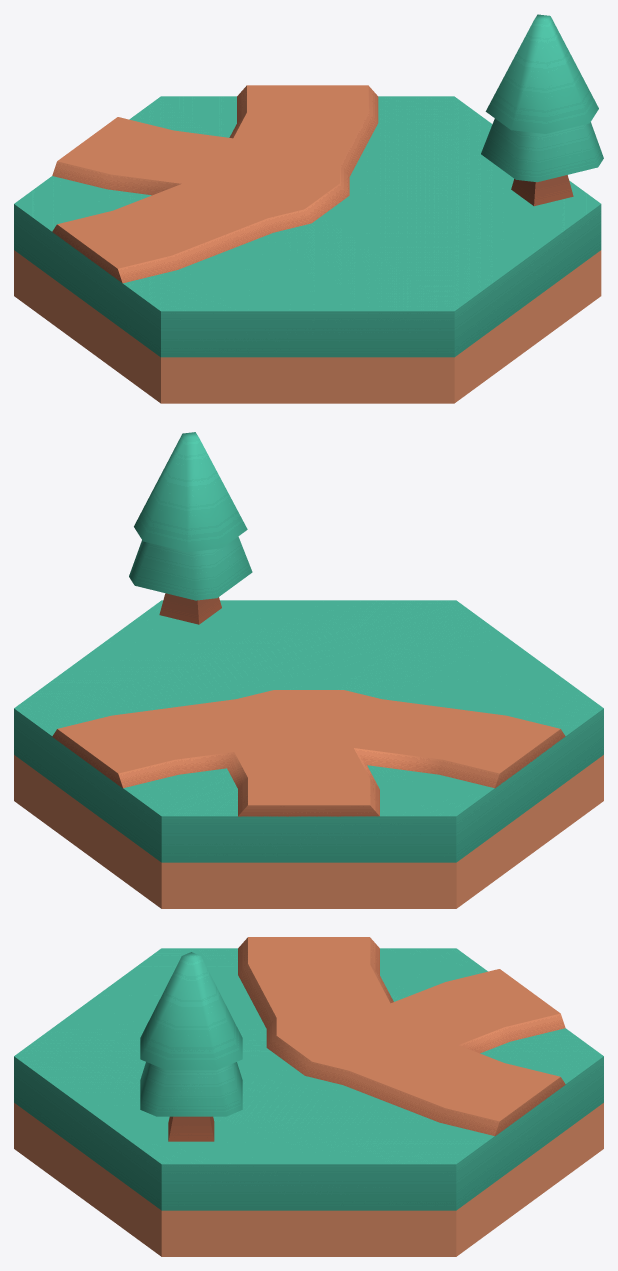
File: grass-path-intersectionA-tree.glb
The picture shows the model from 3 angles, top to bottom: view 1: azimuth 30°, elevation 25°; view 2: azimuth 150°, elevation 25°; view 3: azimuth 270°, elevation 25°; orthographic projection.
Visible parts, largest first — view 1: grass, path-intersectionA, unit-tree; view 2: grass, path-intersectionA, unit-tree; view 3: grass, path-intersectionA, unit-tree.
Part boxes in pixels (bbox=[...]): grass: bbox=[14, 96, 601, 403]; path-intersectionA: bbox=[52, 85, 378, 283]; unit-tree: bbox=[481, 14, 603, 206]; grass: bbox=[14, 600, 603, 908]; path-intersectionA: bbox=[52, 690, 565, 816]; unit-tree: bbox=[129, 432, 252, 624]; grass: bbox=[14, 948, 603, 1256]; path-intersectionA: bbox=[238, 937, 565, 1136]; unit-tree: bbox=[140, 952, 242, 1141].
Size of the model in its own units: 1 by 0.603 by 1.15.
Materials: 1 (1 with a texture image).
